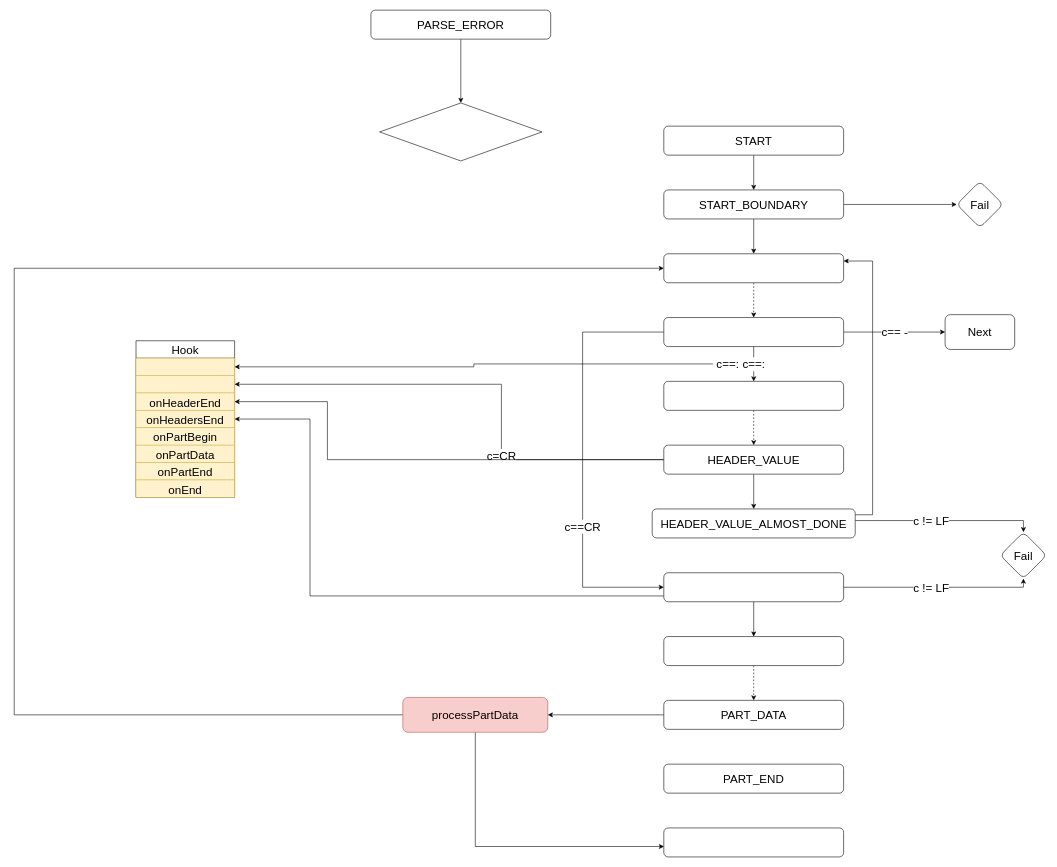
Some shapes in this 1057 by 867 pixel diagram are drawn without their labels. Here are the shapes that lost their labels. From the top down, the centre of each, then its label:
At pixel 460 131: "结束".
At pixel 753 268: "HEADER_FIELD_START".
At pixel 753 332: "HEADER_FIELD".
At pixel 185 367: "onHeaderField".
At pixel 185 384: "onHeaderValue".
At pixel 753 395: "HEADER_VALUE_START".
At pixel 753 587: "HEADERS_ALMOST_DONE".
At pixel 753 651: "PART_DATA_START".
At pixel 753 842: "END".
